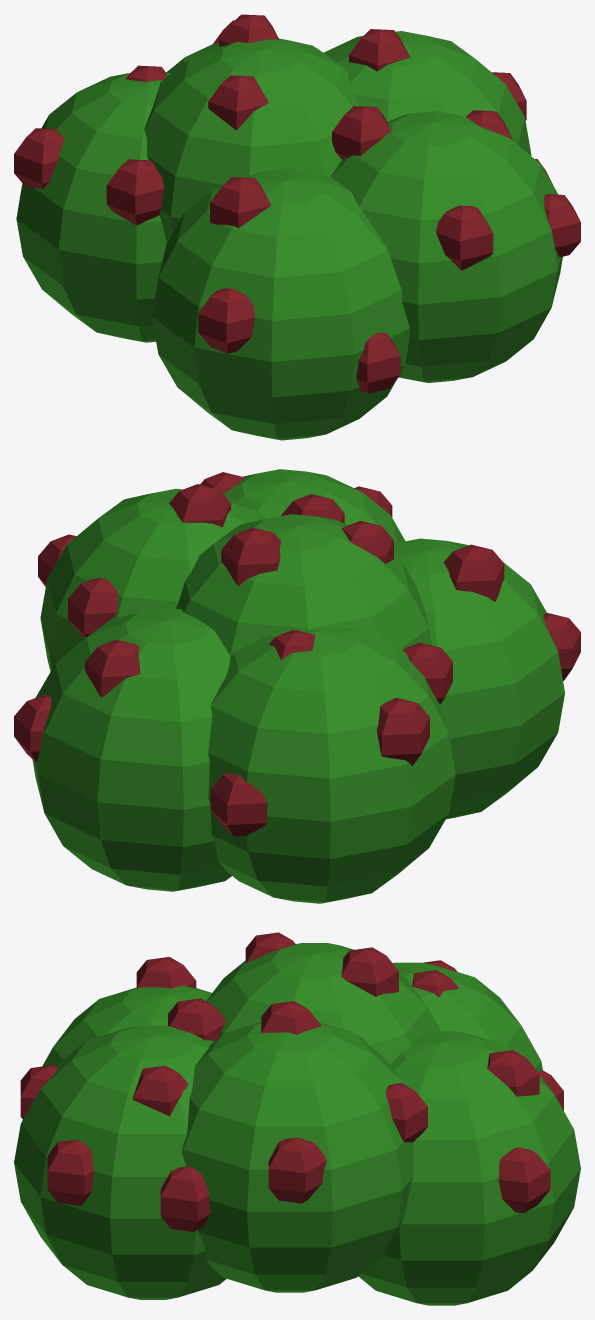
File: Noak Bush.fbx
3 renders of one model, top to bottom at view 1: azimuth 30°, elevation 25°; view 2: azimuth 150°, elevation 25°; view 3: azimuth 270°, elevation 25°, orthographic. The views are drawn at different scales.
Visible parts, largest first — view 1: Noak Bush; view 2: Noak Bush; view 3: Noak Bush.
Boxes of the visible parts, bbox=[...] form: Noak Bush: bbox=[14, 14, 580, 440]; Noak Bush: bbox=[14, 469, 580, 903]; Noak Bush: bbox=[14, 932, 580, 1305].
Size of the model in its own units: 59.6 by 42.42 by 66.16.
